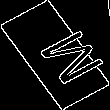M_SW: (15, 22, 95, 88)
